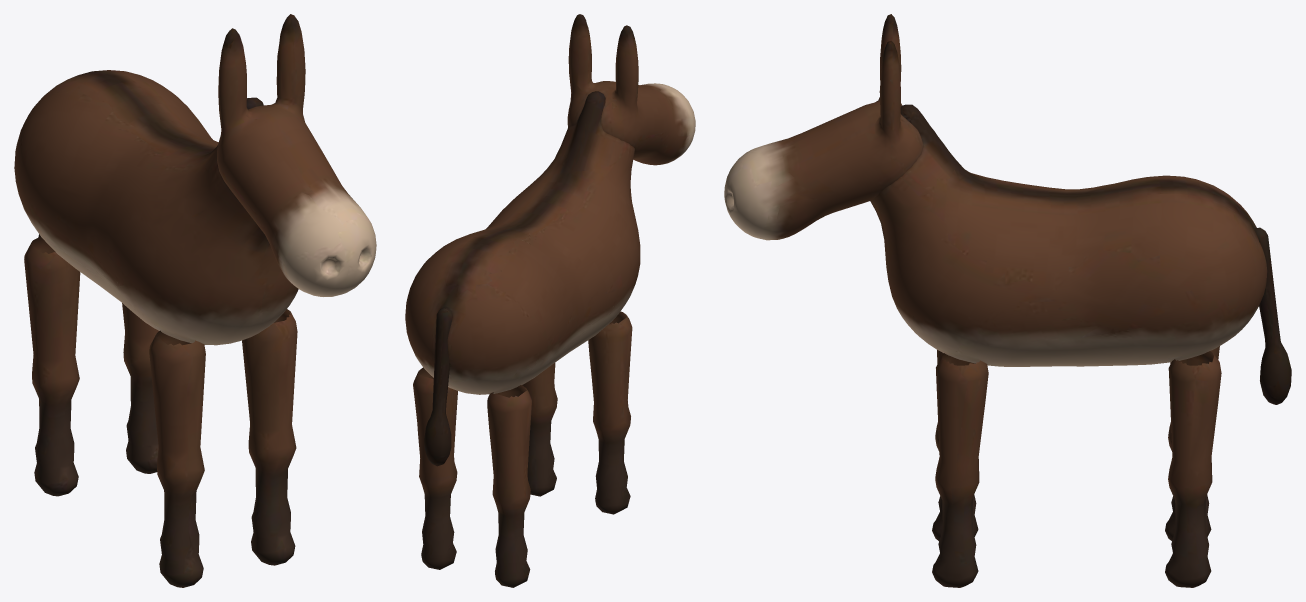
The model's file is animal_mule.glb.
The picture shows the model from 3 angles, left to right: view 1: azimuth 30°, elevation 25°; view 2: azimuth 150°, elevation 25°; view 3: azimuth 270°, elevation 25°; orthographic projection. The views are drawn at different scales.
Visible parts, largest first — view 1: animal_mule, head, leg0, leg2, leg1, leg3; view 2: animal_mule, head, leg2, leg0, leg3, leg1, tail; view 3: animal_mule, head, leg3, leg1, tail.
Boxes of the visible parts, left/top/right/bottom form: animal_mule: left=14, top=70, right=298, bottom=345; head: left=217, top=14, right=376, bottom=296; leg0: left=149, top=330, right=205, bottom=587; leg2: left=24, top=236, right=80, bottom=496; leg1: left=242, top=309, right=297, bottom=565; leg3: left=122, top=303, right=158, bottom=473; animal_mule: left=405, top=91, right=640, bottom=394; head: left=567, top=14, right=695, bottom=165; leg2: left=487, top=385, right=531, bottom=587; leg0: left=588, top=311, right=632, bottom=514; leg3: left=413, top=367, right=457, bottom=569; leg1: left=522, top=363, right=557, bottom=496; tail: left=424, top=307, right=452, bottom=466; animal_mule: left=870, top=104, right=1267, bottom=366; head: left=724, top=14, right=923, bottom=240; leg3: left=1165, top=351, right=1221, bottom=587; leg1: left=932, top=353, right=988, bottom=587; tail: left=1255, top=227, right=1291, bottom=404.
Size of the model in its own units: 0.2164 by 0.7161 by 0.6843.
1 material, 1 textured.
